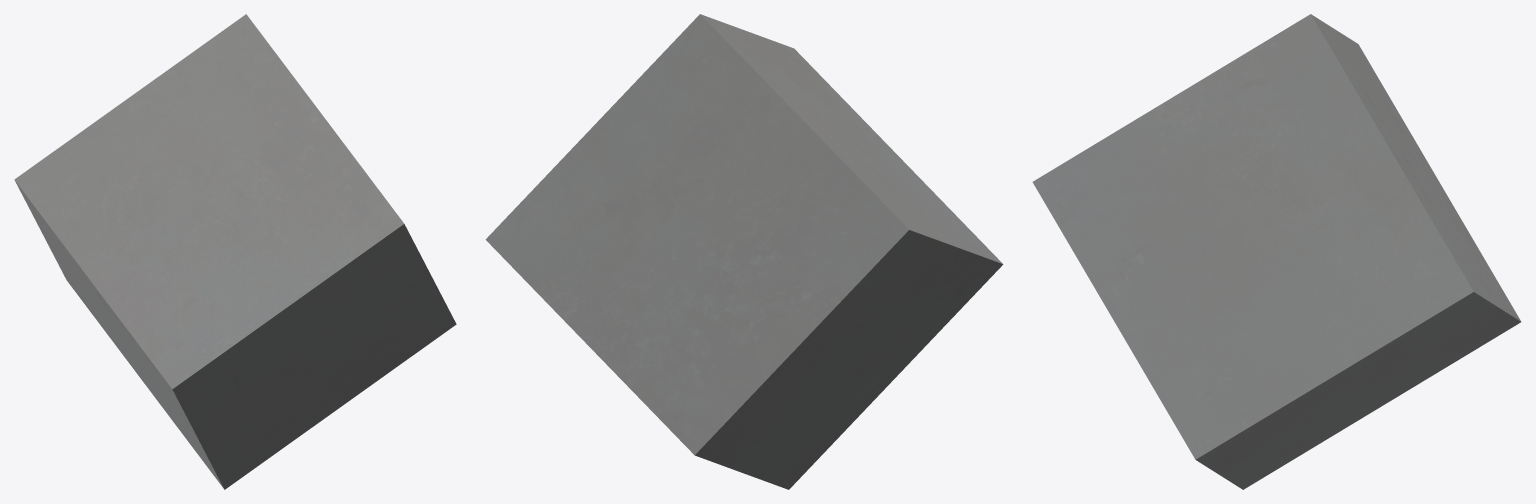
The model's file is MetalCube.glb.
3 views of the same model, side by side, from view 1: azimuth 30°, elevation 25°; view 2: azimuth 150°, elevation 25°; view 3: azimuth 270°, elevation 25° (orthographic). The views are drawn at different scales.
Visible parts, largest first — view 1: Cube.001; view 2: Cube.001; view 3: Cube.001.
Part boxes in pixels (x1,y1,x2,y2): Cube.001: (14,14,456,489); Cube.001: (485,14,1003,489); Cube.001: (1032,14,1521,489).
Size of the model in its own units: 3 by 3.41 by 3.
1 material, 1 textured.
